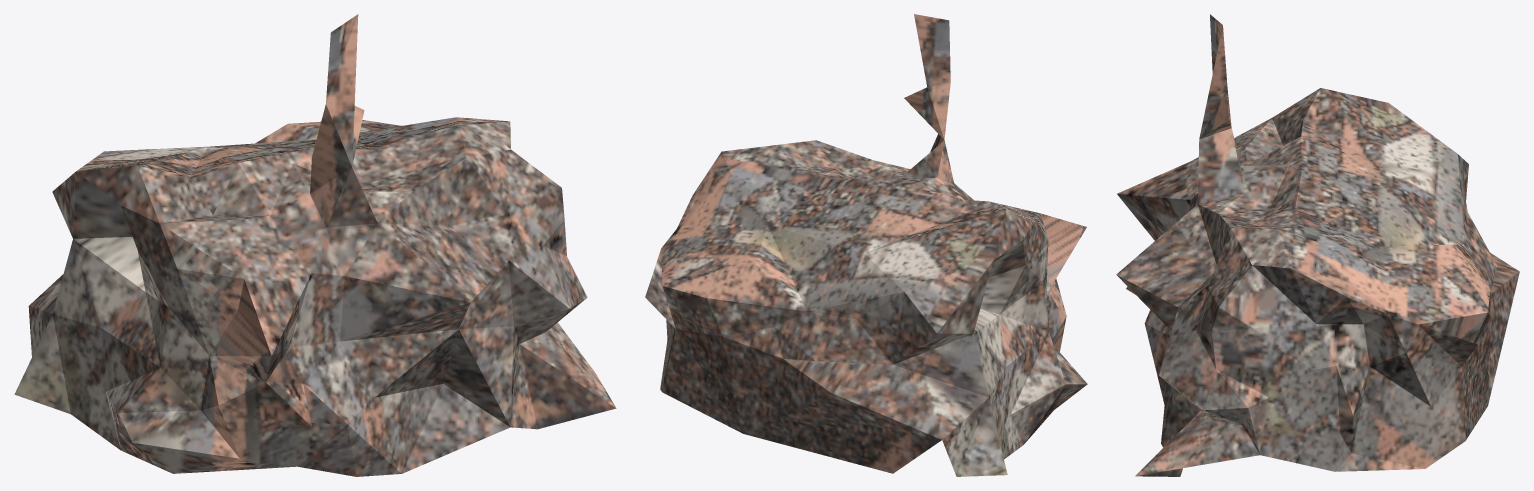
The model's file is moshava_lod1.obj.
3 renders of one model, left to right at view 1: azimuth 30°, elevation 25°; view 2: azimuth 150°, elevation 25°; view 3: azimuth 270°, elevation 25°, orthographic. The views are drawn at different scales.
Bounding box in the file's own units: 1.08 × 1 × 0.9402.
1 material, 1 textured.
